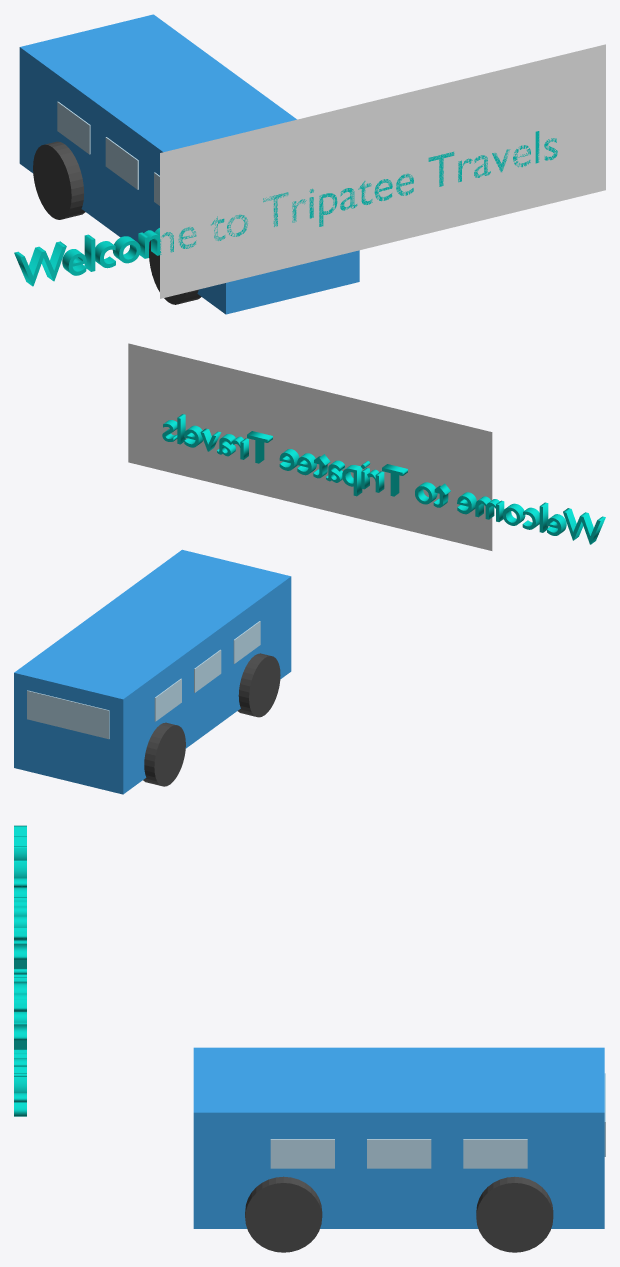
File: bus_scene.glb
3 views of the same model, one above another, from view 1: azimuth 30°, elevation 25°; view 2: azimuth 150°, elevation 25°; view 3: azimuth 270°, elevation 25° (orthographic). The views are drawn at different scales.
Visible parts, largest first — view 1: Banner_Board, Bus_Body, Welcome_Text, Wheel_0, Window_L_1.5, Window_L_0.0, Wheel_2; view 2: Banner_Board, Bus_Body, Welcome_Text, Windshield, Wheel_0, Wheel_2, Window_L_1.5, Window_L_0.0, Window_L_-1.5; view 3: Bus_Body, Wheel_3, Wheel_1, Welcome_Text, Window_R_1.5, Window_R_0.0, Window_R_-1.5.
Part boxes in pixels (<box>): Banner_Board: <box>160,44,605,298</box>; Bus_Body: <box>19,14,359,314</box>; Welcome_Text: <box>14,131,557,286</box>; Wheel_0: <box>33,141,85,219</box>; Window_L_1.5: <box>57,101,90,154</box>; Window_L_0.0: <box>105,137,138,189</box>; Wheel_2: <box>149,240,201,304</box>; Banner_Board: <box>128,343,492,550</box>; Bus_Body: <box>14,549,291,794</box>; Welcome_Text: <box>162,414,605,544</box>; Windshield: <box>27,690,109,739</box>; Wheel_0: <box>143,722,185,786</box>; Wheel_2: <box>238,653,280,717</box>; Window_L_1.5: <box>154,678,181,721</box>; Window_L_0.0: <box>194,649,221,692</box>; Window_L_-1.5: <box>233,621,260,663</box>; Bus_Body: <box>193,1047,604,1228</box>; Wheel_3: <box>245,1176,322,1252</box>; Wheel_1: <box>476,1176,553,1252</box>; Welcome_Text: <box>14,825,26,1116</box>; Window_R_1.5: <box>463,1139,527,1168</box>; Window_R_0.0: <box>367,1139,431,1168</box>; Window_R_-1.5: <box>270,1139,334,1168</box>.
Size of the model in its own units: 10.5 by 4.85 by 9.22.
